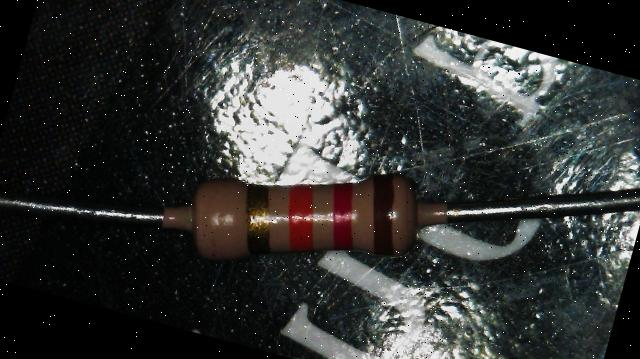brown: (357, 168, 408, 262)
gold: (233, 182, 278, 255)
orange: (282, 181, 322, 255)
red: (324, 178, 364, 255)
resistor: (140, 143, 440, 294)
